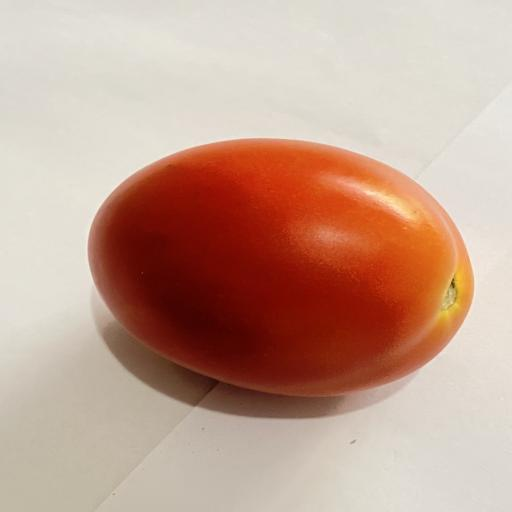ripe: (88, 139, 473, 396)
